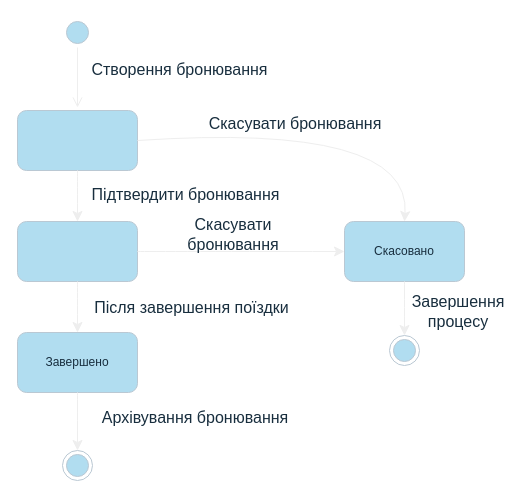
This 522x498 diagram has some shape labels left out. Each missing label, with the centre of its shape:
"Підтверджено" belongs at pixel 77 251.
"Створено" belongs at pixel 77 140.
